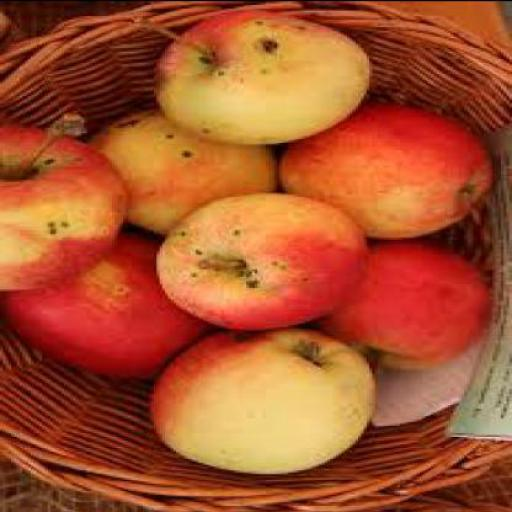biodegradable: (149, 326, 380, 473), (2, 230, 222, 380), (131, 6, 372, 142), (157, 188, 372, 326), (280, 101, 495, 236), (3, 108, 134, 287), (98, 104, 280, 232), (319, 240, 492, 368)
